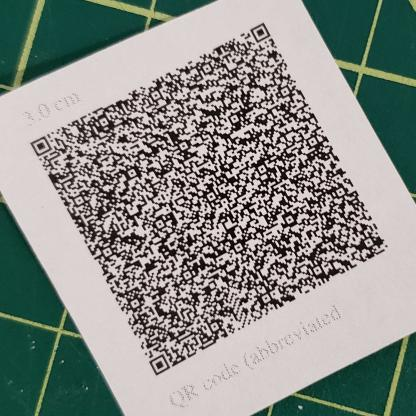qr: (27, 19, 397, 379)
